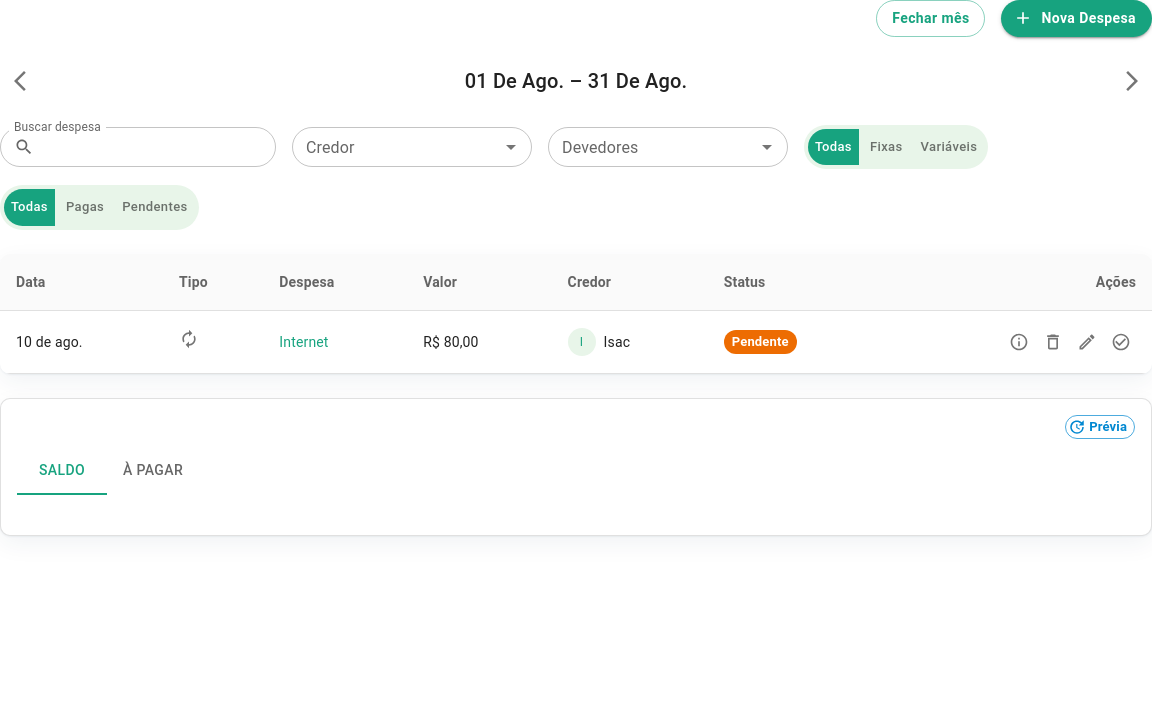
Test: ExpenseManager - modal de detalhes: tipo, parcela e valor por pagador › falls back to the old label and plain names when the sealed-cycle payload lacks the new fields
Click the button named "Ver detalhes" at (1019, 342), box top-left (1004, 327), bottom-right (1034, 357)
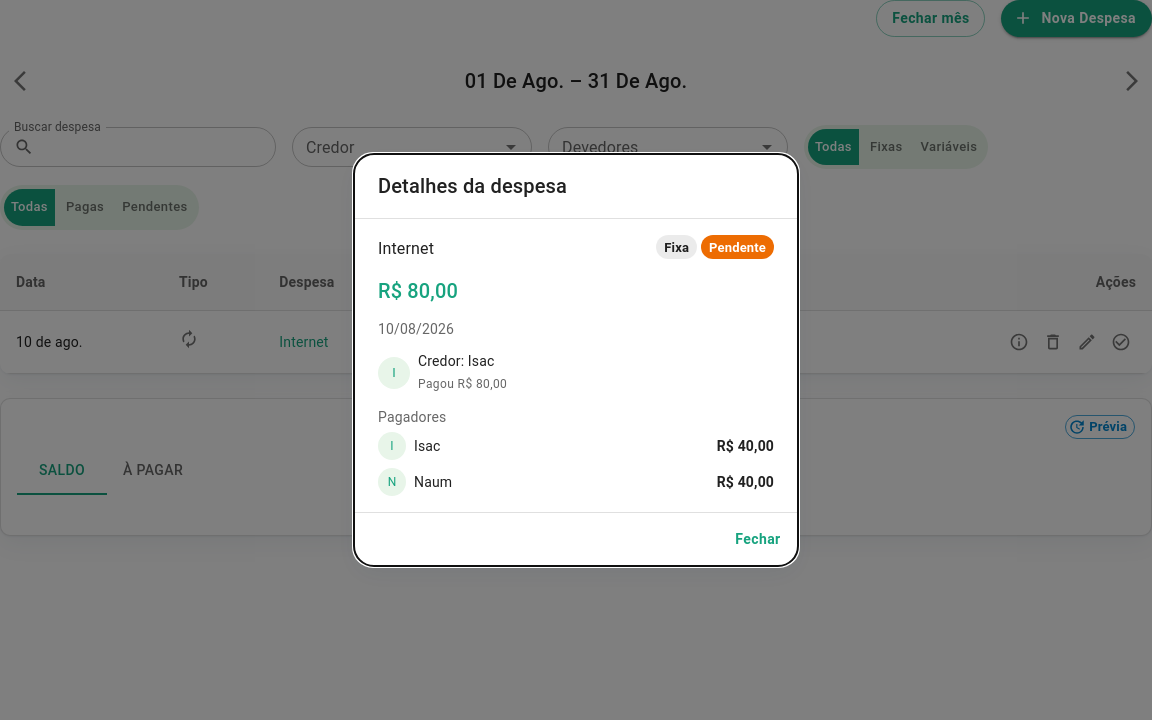
Now the text "Fixa" is shown, box top-left (664, 240), bottom-right (689, 254)
Now the text "Isac" is shown, box top-left (414, 438), bottom-right (441, 454)
Now the text "Naum" is shown, box top-left (414, 474), bottom-right (452, 490)
